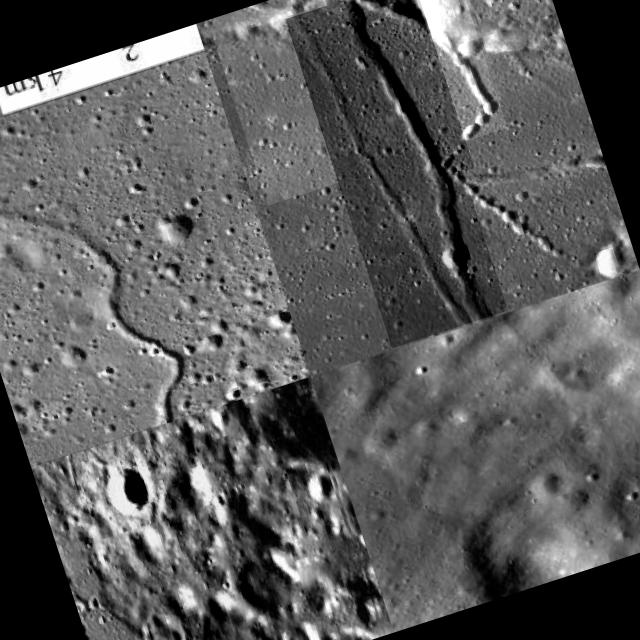rille: (285, 0, 508, 348), (0, 113, 205, 466), (320, 0, 519, 334), (208, 0, 508, 205), (31, 411, 283, 640), (460, 130, 638, 312)
